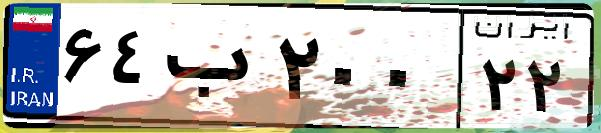0: (385, 28, 445, 110), (330, 28, 385, 110)
2: (270, 28, 330, 110), (475, 38, 525, 113), (525, 38, 570, 115)
4: (110, 28, 158, 98)
6: (57, 26, 110, 100)
ب: (158, 20, 270, 120)
